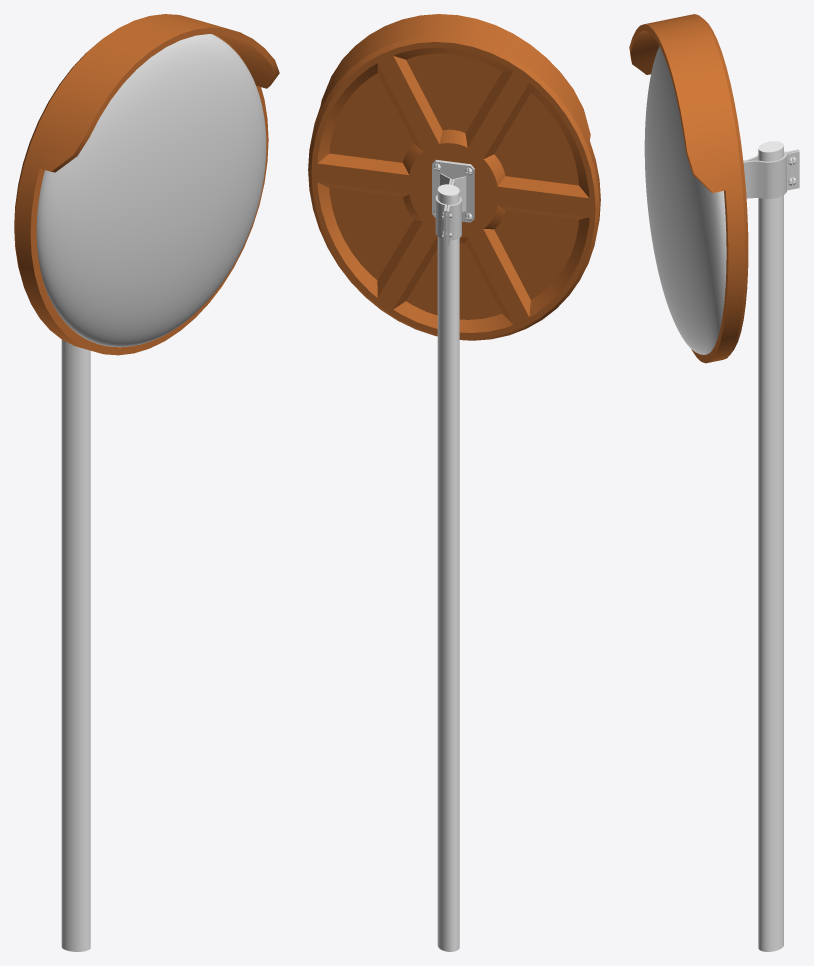
Rendered from convex.glb.
The picture shows the model from 3 angles, left to right: view 1: azimuth 30°, elevation 25°; view 2: azimuth 150°, elevation 25°; view 3: azimuth 270°, elevation 25°; orthographic projection. The views are drawn at different scales.
Visible parts, largest first — view 1: convex mirror_0; view 2: convex mirror_0; view 3: convex mirror_0.
Boxes of the visible parts, <box> form: convex mirror_0: <box>14,14,279,951</box>; convex mirror_0: <box>308,14,600,951</box>; convex mirror_0: <box>629,14,799,951</box>.
Size of the model in its own units: 0.1878 by 0.6001 by 0.0994.
